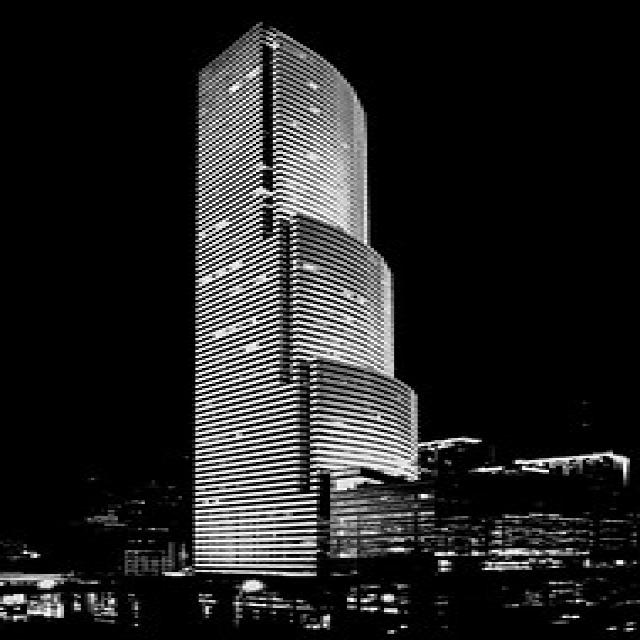Normal_building: (186, 20, 424, 588)
